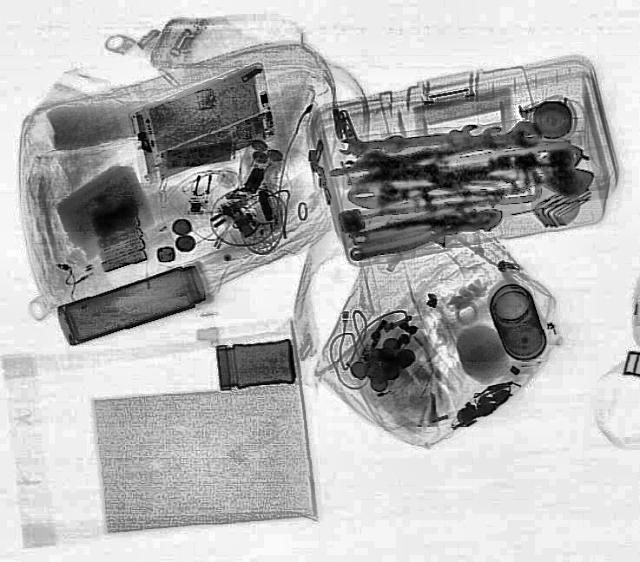Pliers: (342, 198, 508, 262)
Wrench: (338, 122, 480, 156), (409, 124, 508, 166)
